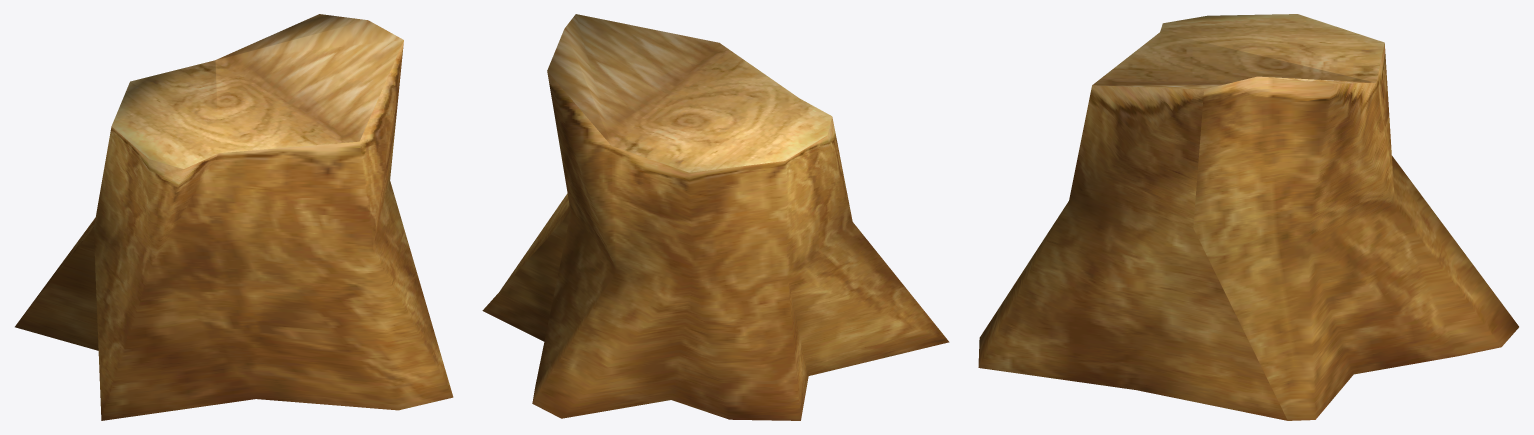
The model's file is obj_madaprtree06.glb.
The picture shows the model from 3 angles, left to right: view 1: azimuth 30°, elevation 25°; view 2: azimuth 150°, elevation 25°; view 3: azimuth 270°, elevation 25°; orthographic projection. The views are drawn at different scales.
Parts seen in each view (by area): view 1: part_0; view 2: part_0; view 3: part_0.
Part boxes in pixels (x1,y1,x2,y2): part_0: (15, 14, 453, 420); part_0: (482, 14, 949, 420); part_0: (978, 14, 1518, 420).
Bounding box in the file's own units: 4.78 × 3.3 × 5.17.
1 material, 1 textured.
